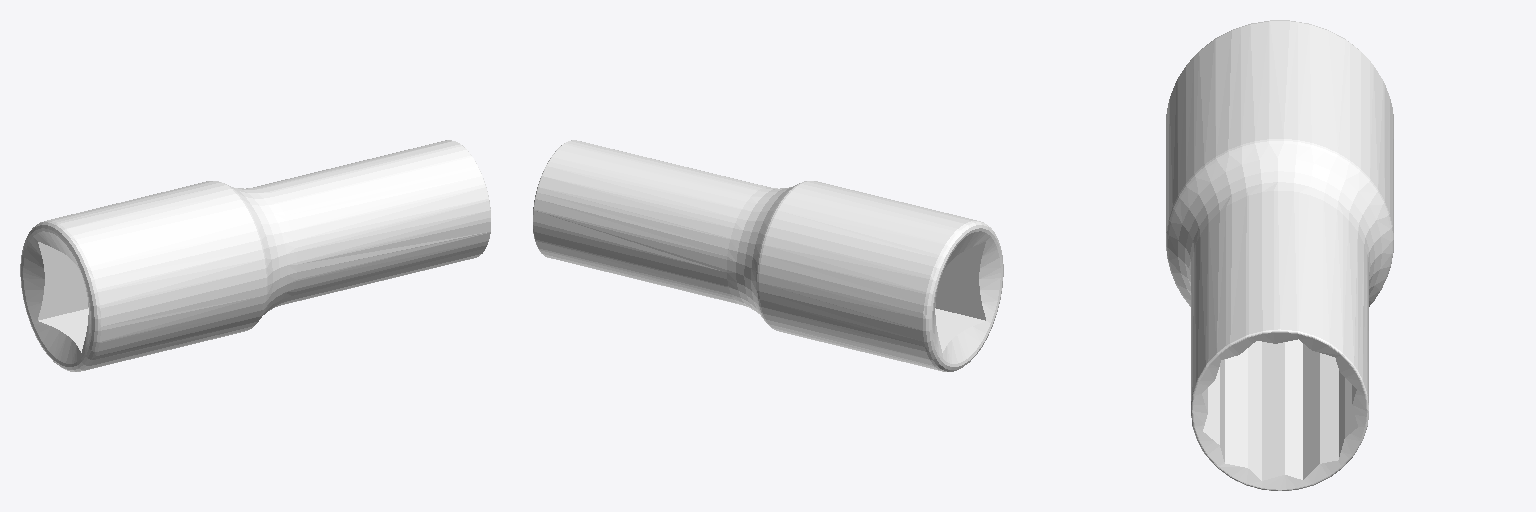
URDF robot description (M10_sleeve):
<?xml version="1.0" encoding="utf-8"?>
<!-- This URDF was automatically created by SolidWorks to URDF Exporter! Originally created by [author] ([email redacted]) 
     Commit Version: 1.6.0-4-g7f85cfe  Build Version: 1.6.7995.38578
     For more information, please see http://wiki.ros.org/sw_urdf_exporter -->
<robot
  name="M10_sleeve">
  <link
    name="M10_sleeve_base_link">
    <inertial>
      <origin
        xyz="-0.00036727 2.0383E-17 -3.5432E-16"
        rpy="0 0 0" />
      <mass
        value="0.010807" />
      <inertia
        ixx="9.0447E-07"
        ixy="-5.476E-21"
        ixz="9.2286E-20"
        iyy="3.7372E-06"
        iyz="2.1176E-22"
        izz="3.7372E-06" />
    </inertial>
    <visual>
      <origin
        xyz="0 0 0"
        rpy="0 0 0" />
      <geometry>
        <mesh
          filename="package://M10_sleeve/meshes/M10_sleeve_base_link.STL" />
      </geometry>
      <material
        name="">
        <color
          rgba="1 1 1 1" />
      </material>
    </visual>
    <collision>
      <origin
        xyz="0 0 0"
        rpy="0 0 0" />
      <geometry>
        <mesh
          filename="package://M10_sleeve/meshes/M10_sleeve_base_link.STL" />
      </geometry>
    </collision>
  </link>
</robot>

--- Facts derived from the render (not from the file) ---
3 views of the same robot in one strip: view 1: azimuth 30°, elevation 25°; view 2: azimuth 150°, elevation 25°; view 3: azimuth 270°, elevation 25° (orthographic).
Robot: M10_sleeve — 1 links, 0 joints (none); root link M10_sleeve_base_link; default pose: every joint at zero.
Visible links, largest first — view 1: M10_sleeve_base_link; view 2: M10_sleeve_base_link; view 3: M10_sleeve_base_link.
Boxes of the visible links, <box> form: M10_sleeve_base_link: <box>20,140,490,371</box>; M10_sleeve_base_link: <box>533,140,1003,371</box>; M10_sleeve_base_link: <box>1166,20,1393,490</box>.
Bounding box of the posed robot: 0.0694 × 0.023 × 0.023 m (x, y, z).
1 mesh visuals loaded from 1 distinct referenced files (1 binary STL).